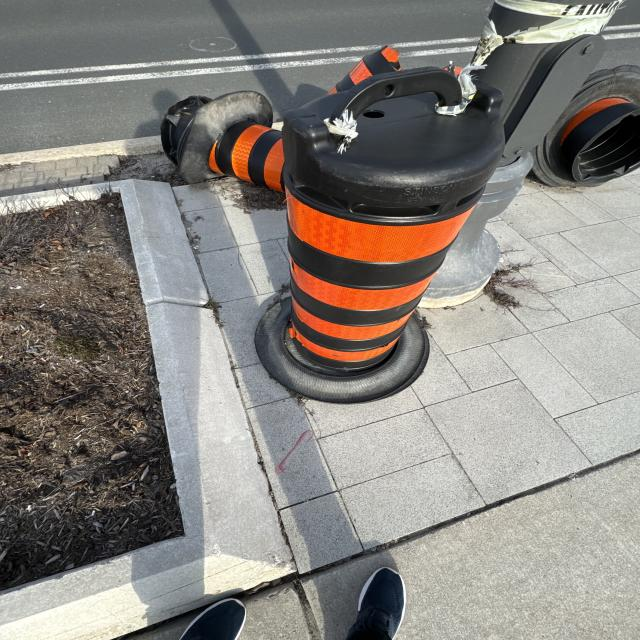Teraffic Barrel: (255, 68, 504, 402), (161, 46, 399, 192), (533, 65, 640, 186), (329, 45, 401, 94)
